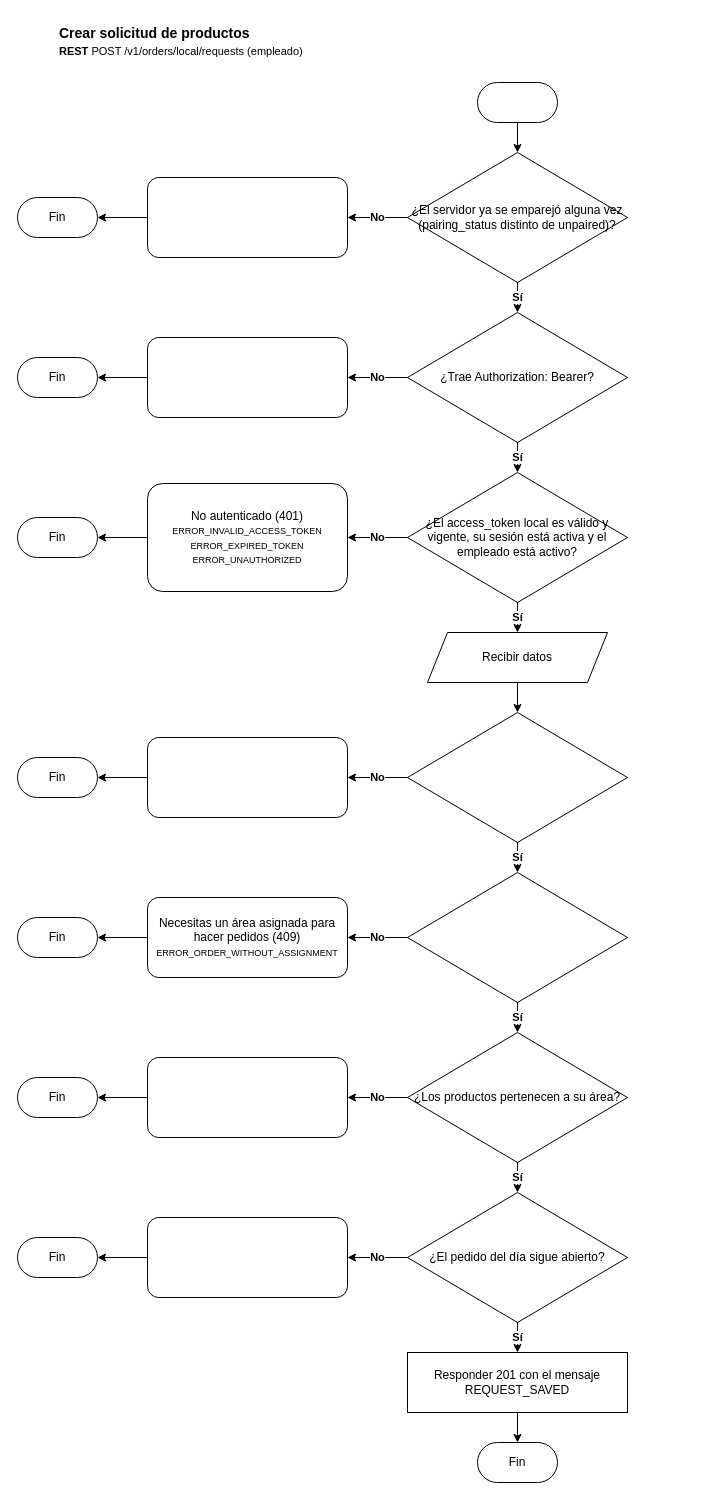
Image size: 715x1500. Some labels were removed from this diagram. The centre of each missing label's shape, as x and y in pixels:
"Datos inválidos (400) ERROR_BAD_REQUEST" belongs at pixel 247 777.
"El pedido ya no está abierto (409) ERROR_ORDER_NOT_OPEN" belongs at pixel 247 1257.
"El producto no pertenece a tu área (404) ERROR_ORDER_PRODUCT_NOT_IN_AREA" belongs at pixel 247 1097.
"Falta el token (401) ERROR_MISSING_TOKEN" belongs at pixel 247 377.
"Inicio" belongs at pixel 517 102.
"Servidor sin emparejar (409) ERROR_SERVER_NOT_PAIRED" belongs at pixel 247 217.
"¿El empleado tiene un área asignada?" belongs at pixel 517 937.
"¿Los datos son válidos?" belongs at pixel 517 777.
